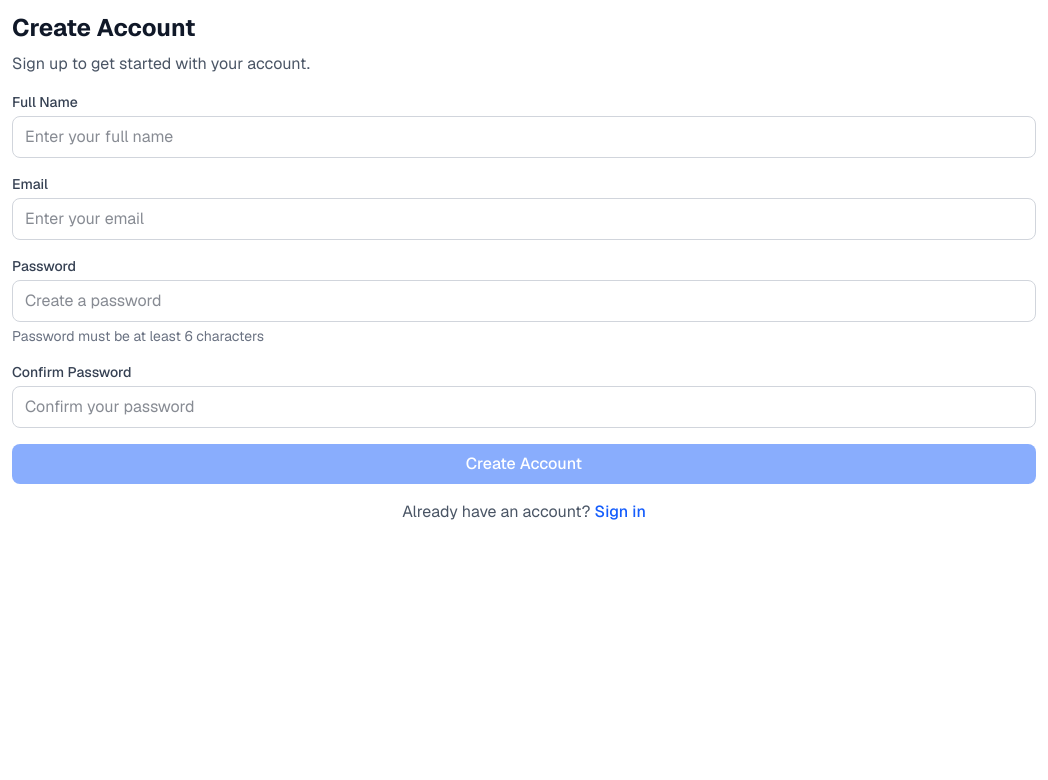
Test: RegisterForm Component › shows password mismatch error when passwords don't match
Type "password123" into the password field labelled "Password" at (524, 301), box [12, 280, 1036, 322]
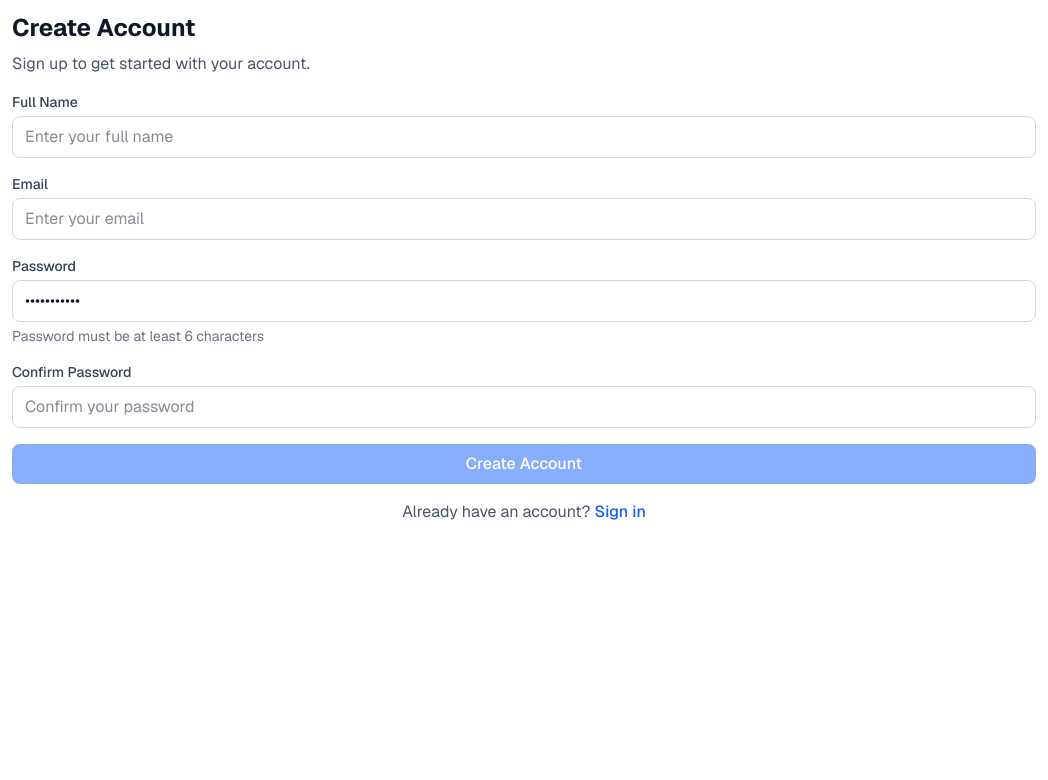
Type "different123" into the password field labelled "Confirm Password" at (524, 407), box [12, 386, 1036, 428]
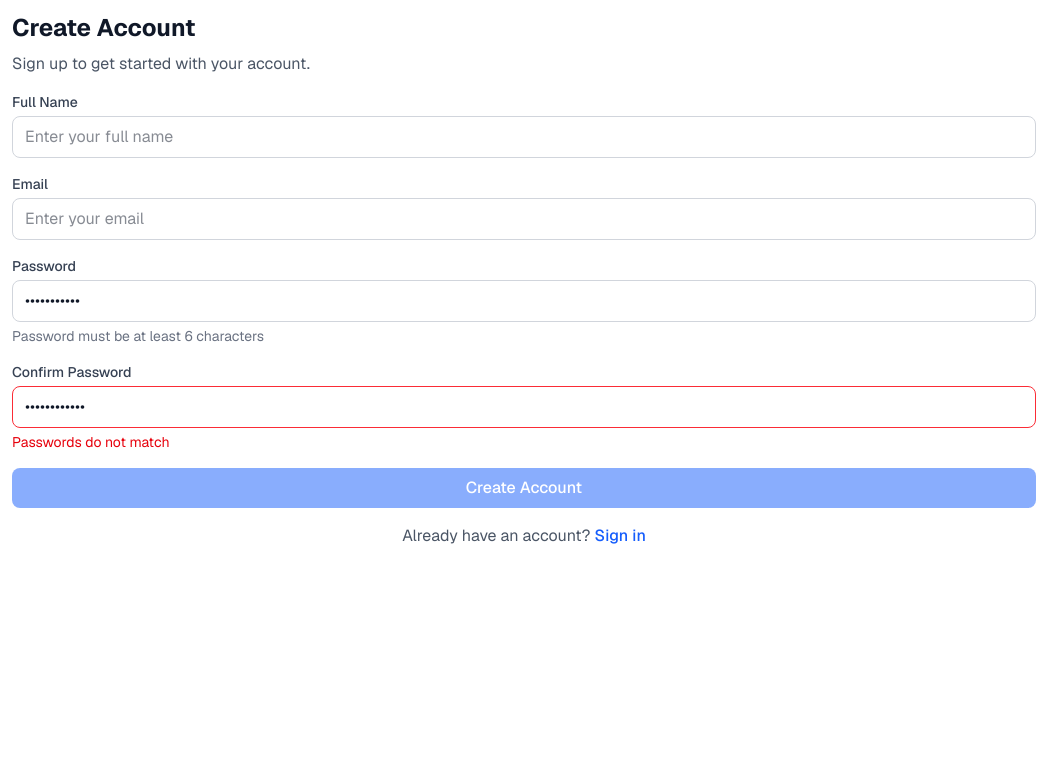
Expected: the text "Passwords do not match" is shown, [12, 433, 170, 451]
